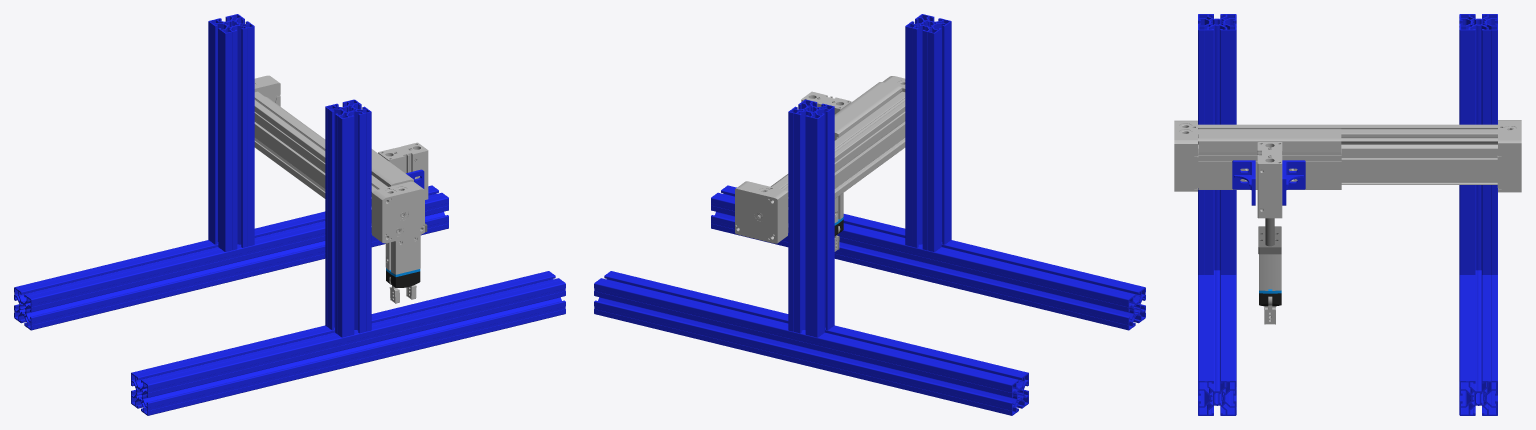
File: ProjetoXYZ-revisao-pes-perfil estrutural.glb
3 renders of one model, left to right at view 1: azimuth 30°, elevation 25°; view 2: azimuth 150°, elevation 25°; view 3: azimuth 270°, elevation 25°, orthographic. The views are drawn at different scales.
Parts seen in each view (by area): view 1: Solid1 (×10); view 2: Solid1 (×7); view 3: Solid1 (×13).
Part boxes in pixels (box(x1,y1,x2,y2)): Solid1 (×10): box(14, 14, 565, 415); Solid1 (×7): box(594, 14, 1145, 415); Solid1 (×13): box(1174, 14, 1521, 415).
Bounding box in the file's own units: 0.7 × 0.4 × 0.45.
